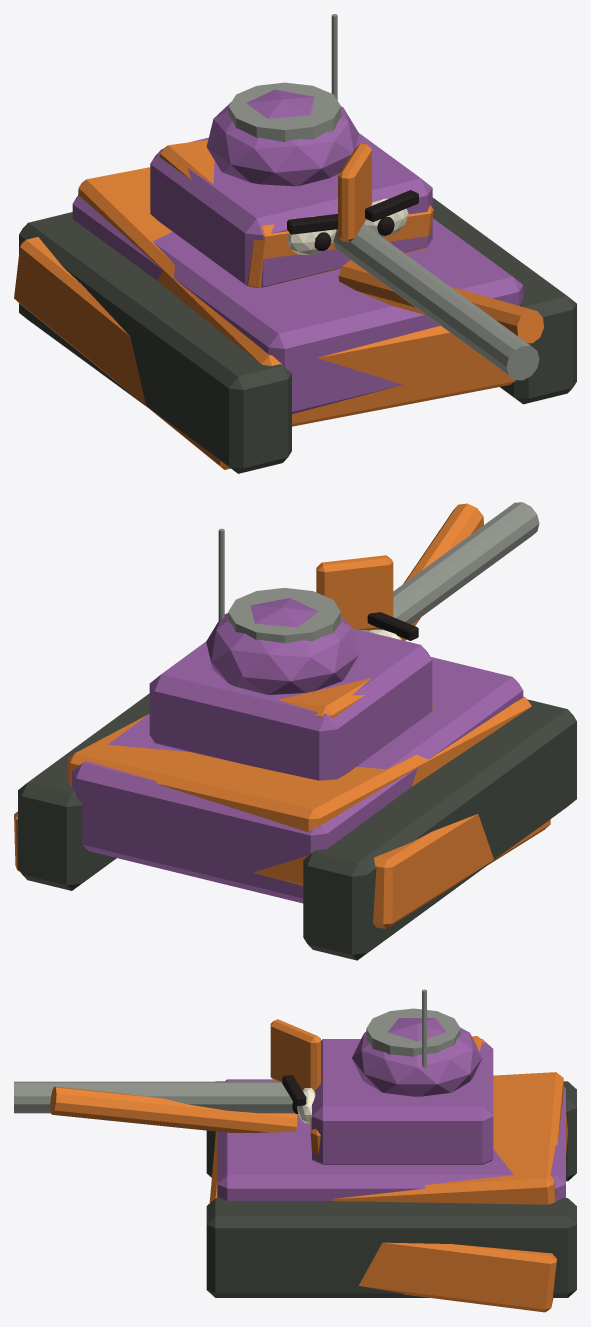
Rendered from SillyEnemyCommander.fbx.
3 views of the same model, one above another, from view 1: azimuth 30°, elevation 25°; view 2: azimuth 150°, elevation 25°; view 3: azimuth 270°, elevation 25° (orthographic). The views are drawn at different scales.
Visible parts, largest first — view 1: LeftTrack, Hull, Turret, Hull_Damaged, LeftTrack_Damaged, Barrel, CommanderHelmet, RightTrack, Hatch, Turret_Damaged, Barrel_Damaged, CommanderBadge (+3 smaller); view 2: Hull, LeftTrack, Turret, Hull_Damaged, CommanderHelmet, RightTrack, LeftTrack_Damaged, Barrel, CommanderBadge, Hatch, Barrel_Damaged, Turret_Damaged (+2 smaller); view 3: RightTrack, Turret, Hull, Hull_Damaged, RightTrack_Damaged, Barrel_Damaged, CommanderHelmet, Barrel, CommanderBadge, Hatch, LeftTrack, RightBrow.
Boxes of the visible parts, x1,y1,x2,y2 form: LeftTrack: (19, 212, 291, 473); Hull: (72, 196, 523, 414); Turret: (150, 133, 432, 287); Hull_Damaged: (78, 167, 515, 426); LeftTrack_Damaged: (14, 237, 230, 469); Barrel: (333, 224, 539, 380); CommanderHelmet: (206, 89, 358, 186); RightTrack: (432, 197, 576, 404); Hatch: (228, 82, 341, 142); Turret_Damaged: (159, 139, 433, 287); Barrel_Damaged: (338, 260, 543, 343); CommanderBadge: (338, 143, 371, 242); Hull: (72, 657, 523, 903); LeftTrack: (303, 699, 576, 960); Turret: (149, 628, 432, 780); Hull_Damaged: (67, 696, 531, 885); CommanderHelmet: (206, 598, 358, 694); RightTrack: (18, 693, 149, 890); LeftTrack_Damaged: (373, 814, 550, 928); Barrel: (361, 502, 539, 631); CommanderBadge: (316, 555, 393, 630); Hatch: (228, 588, 340, 643); Barrel_Damaged: (398, 503, 483, 640); Turret_Damaged: (278, 678, 432, 718); RightTrack: (206, 1198, 576, 1297); Turret: (312, 1039, 493, 1164); Hull: (217, 1079, 565, 1200); Hull_Damaged: (209, 1072, 567, 1204); RightTrack_Damaged: (358, 1242, 556, 1312); Barrel_Damaged: (50, 1086, 297, 1132); CommanderHelmet: (352, 1018, 482, 1096); Barrel: (14, 1081, 294, 1113); CommanderBadge: (270, 1019, 320, 1090); Hatch: (366, 1008, 460, 1056); LeftTrack: (206, 1081, 576, 1181); RightBrow: (282, 1075, 306, 1105).
Size of the model in its own units: 6.58 by 5.41 by 10.07.
